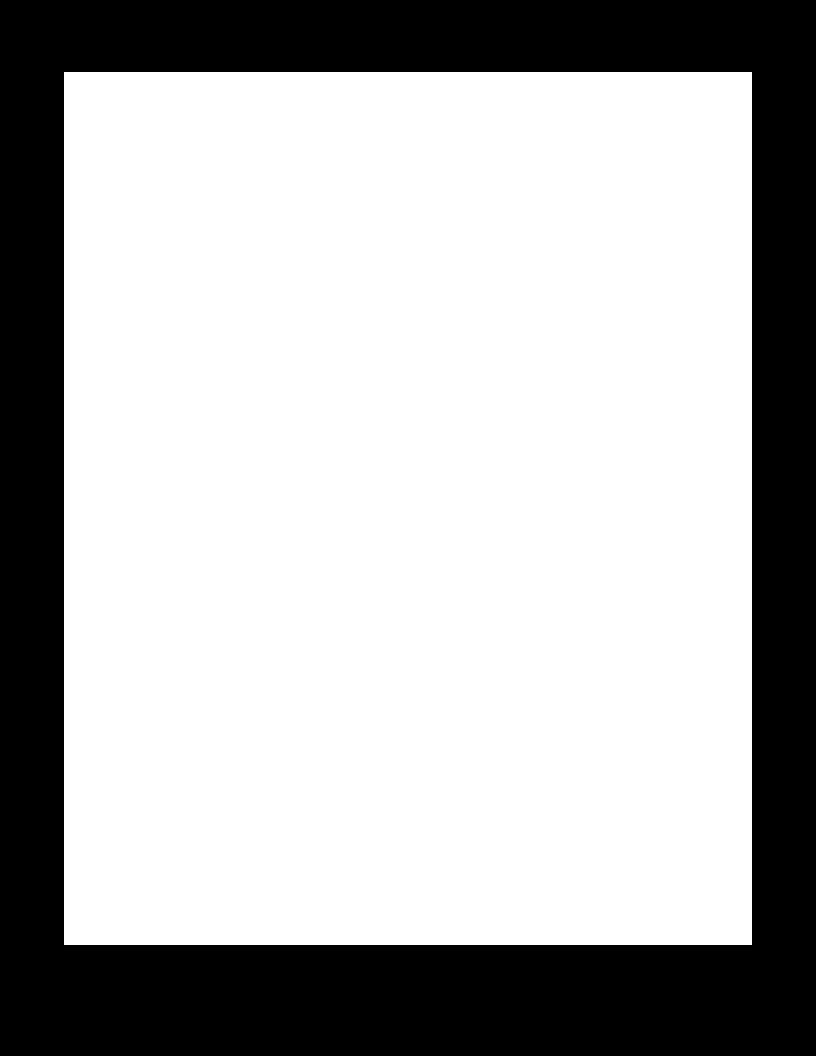table: (64, 72, 751, 944)
